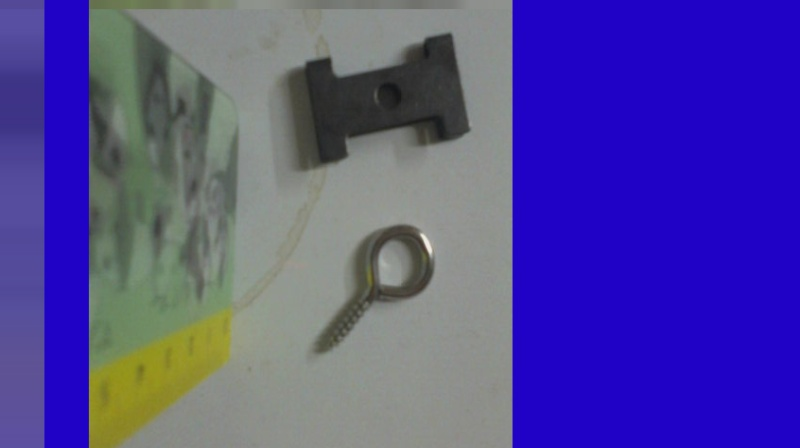O001: (308, 220, 437, 361)
O002: (303, 30, 470, 171)
